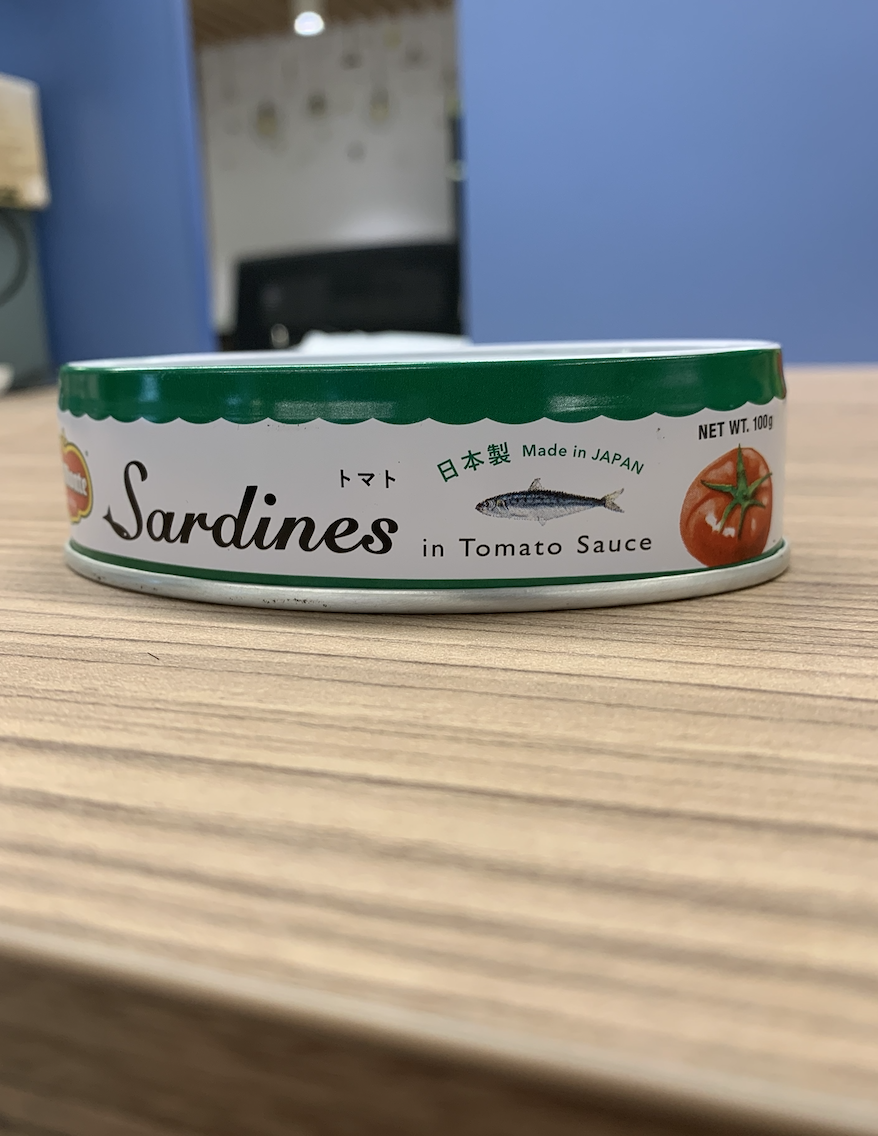sardines_150g: (68, 371, 787, 593)
